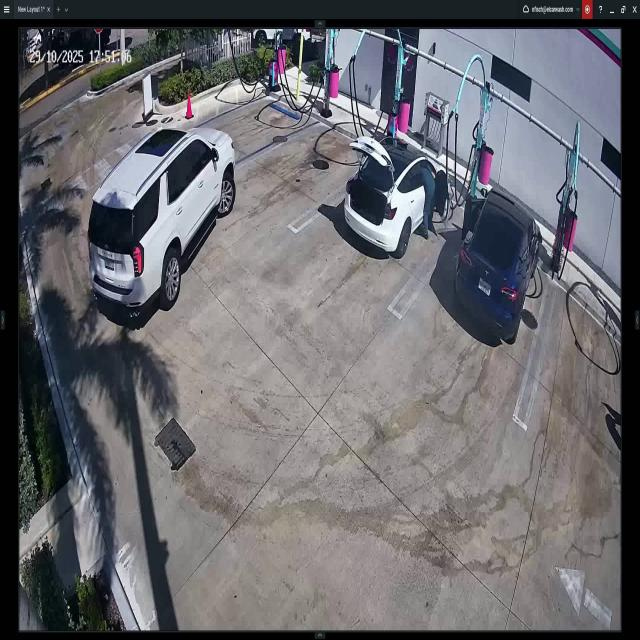Car: (89, 127, 237, 312), (344, 132, 445, 267), (458, 196, 544, 344)
